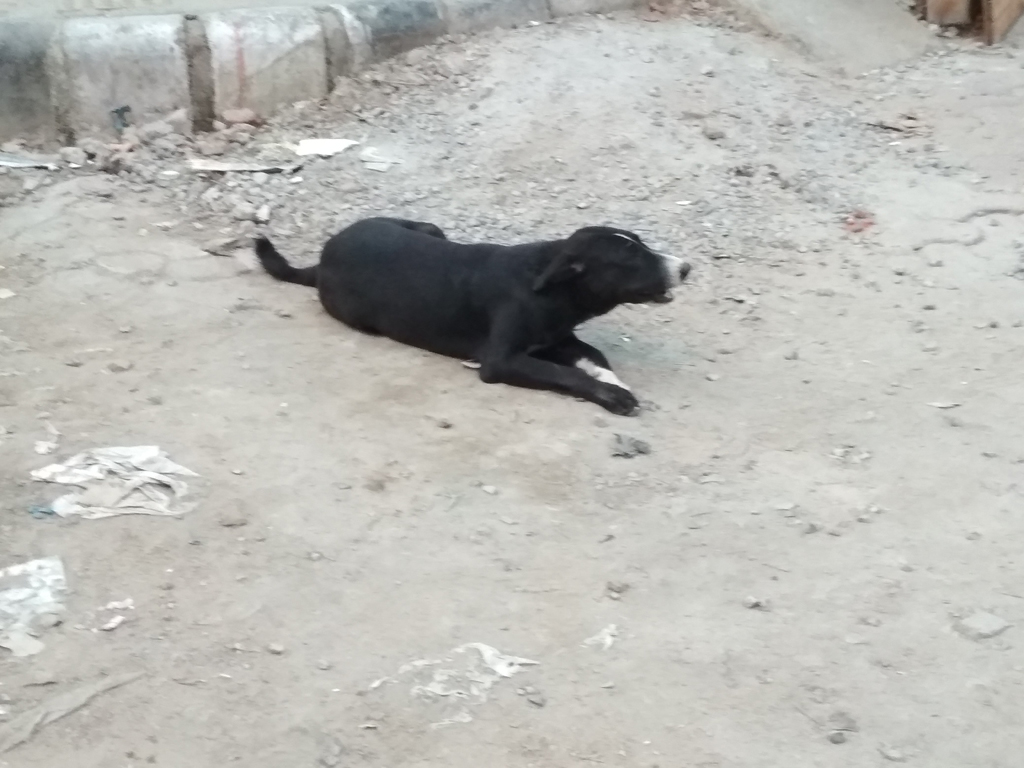dog: (256, 218, 694, 416)
